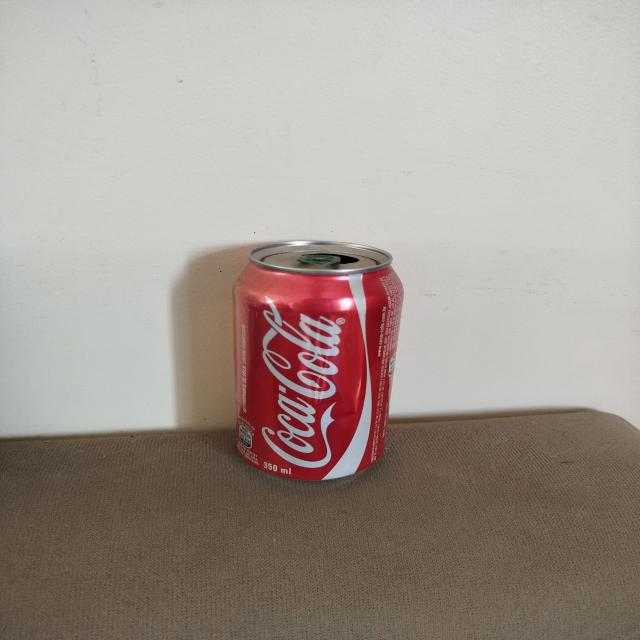Coca Cola: (234, 240, 403, 480)
